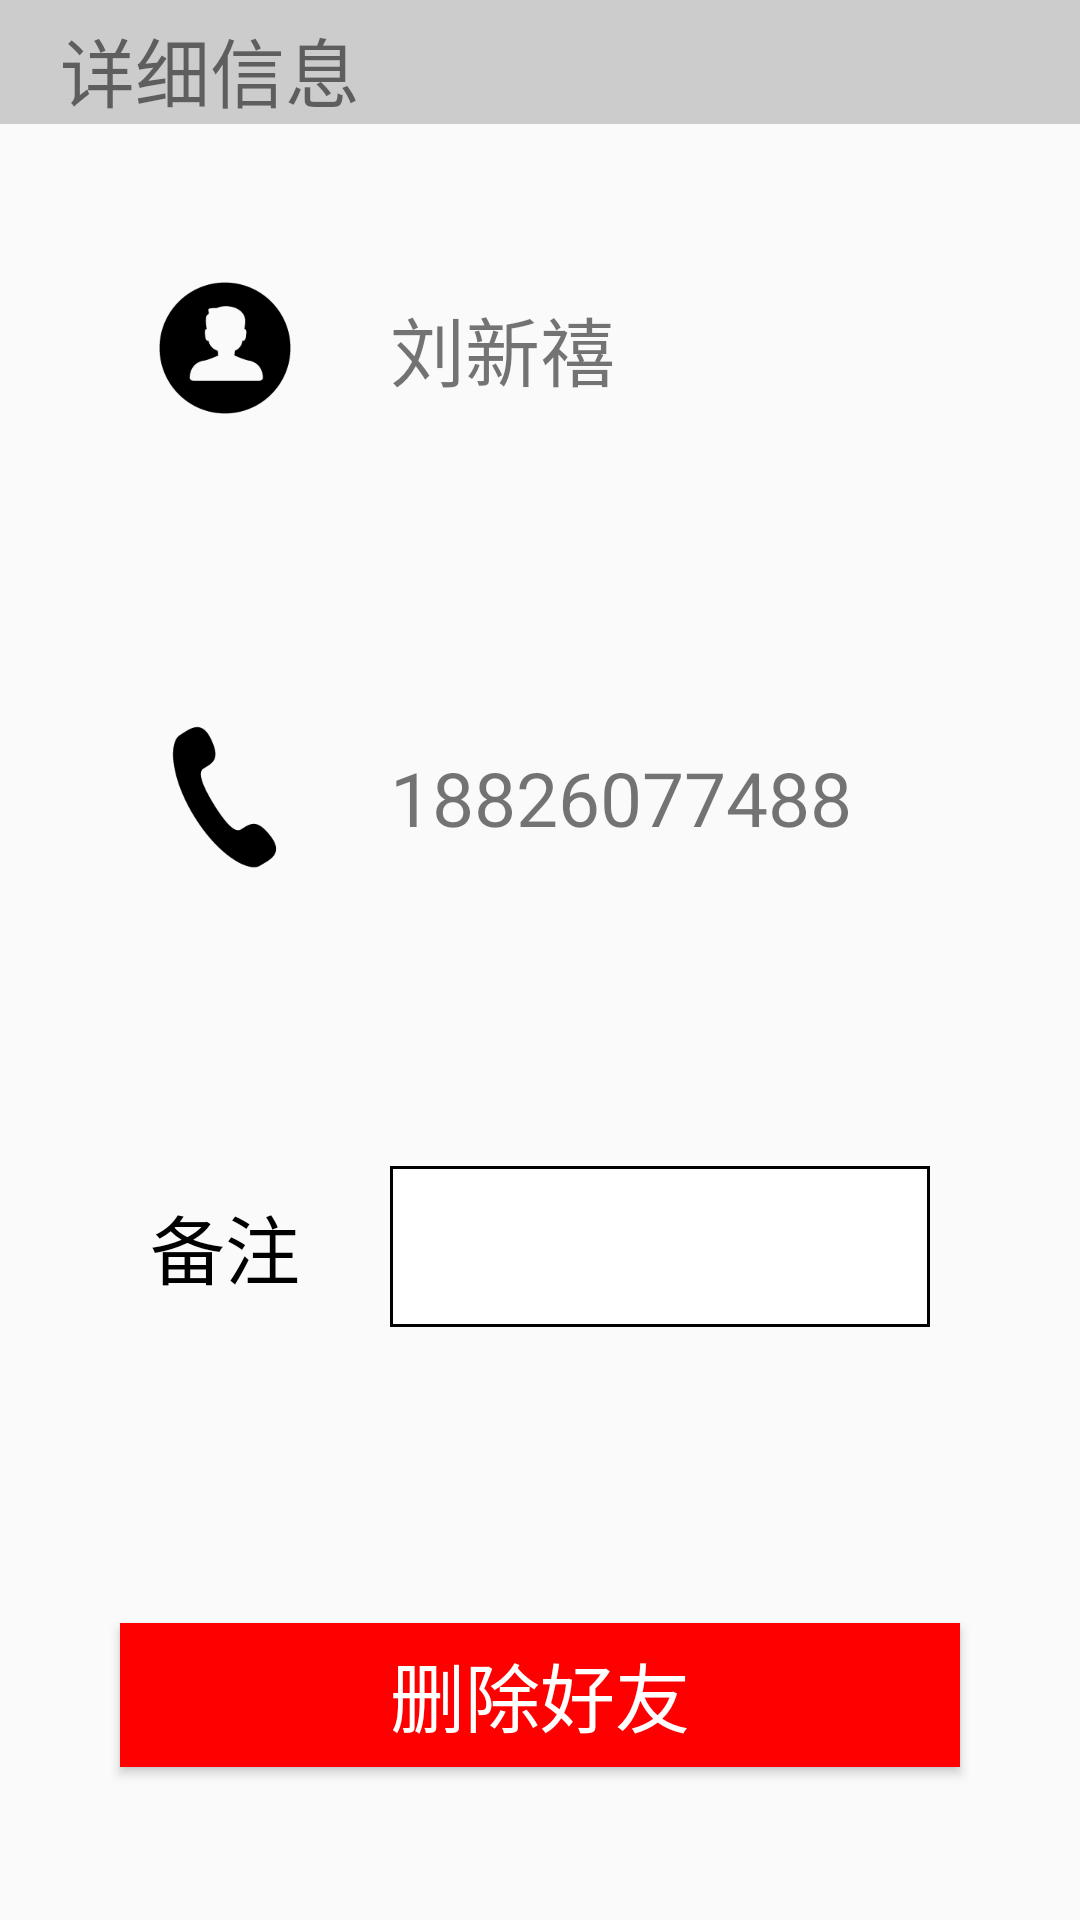

Icon click points for this 1080 x 1920 phone screenshot, format point (x, y):
phone: point (224, 797)
